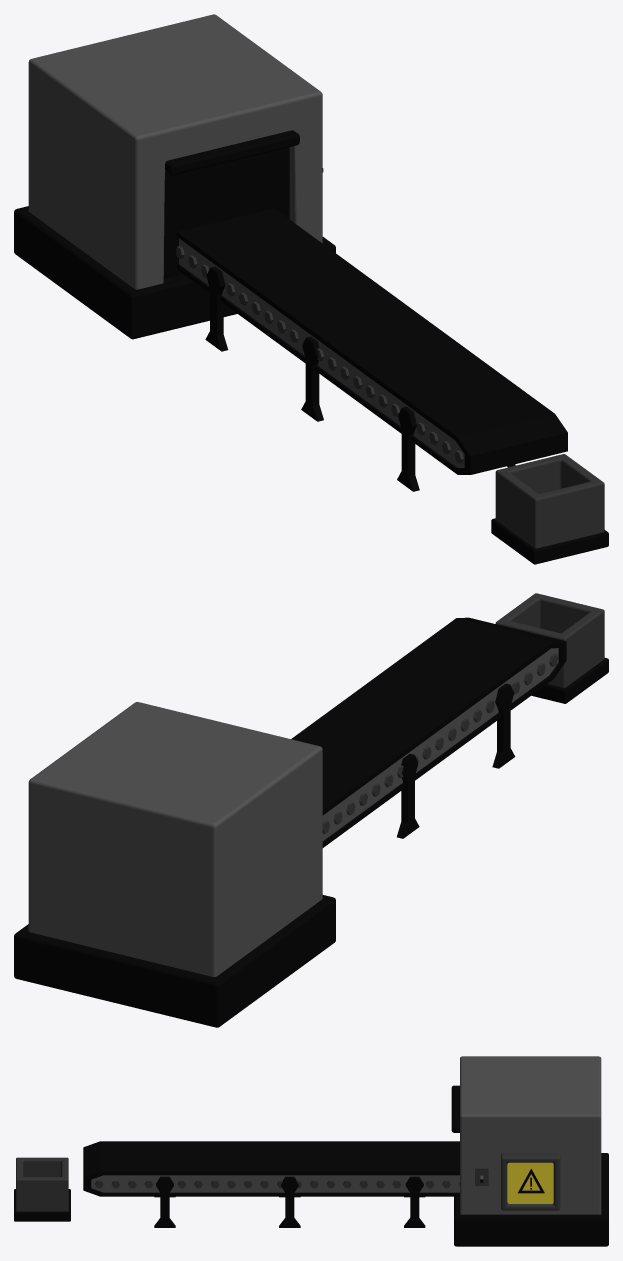
File: theMachine.fbx
3 views of the same model, one above another, from view 1: azimuth 30°, elevation 25°; view 2: azimuth 150°, elevation 25°; view 3: azimuth 270°, elevation 25° (orthographic). The views are drawn at different scales.
Visible parts, largest first — view 1: Cube, Cylinder, Cube.001; view 2: Cube, Cylinder, Cube.001; view 3: Cube, Cylinder, Cube.001.
Part boxes in pixels (bbox=[...]): Cube: bbox=[14, 14, 335, 339]; Cylinder: bbox=[176, 208, 567, 491]; Cube.001: bbox=[491, 454, 608, 564]; Cube: bbox=[14, 702, 335, 1027]; Cylinder: bbox=[291, 617, 566, 847]; Cube.001: bbox=[495, 593, 608, 703]; Cube: bbox=[451, 1056, 608, 1246]; Cylinder: bbox=[83, 1141, 459, 1227]; Cube.001: bbox=[14, 1157, 70, 1221].
Bounding box in the file's own units: 1186 × 1055 × 4415.
